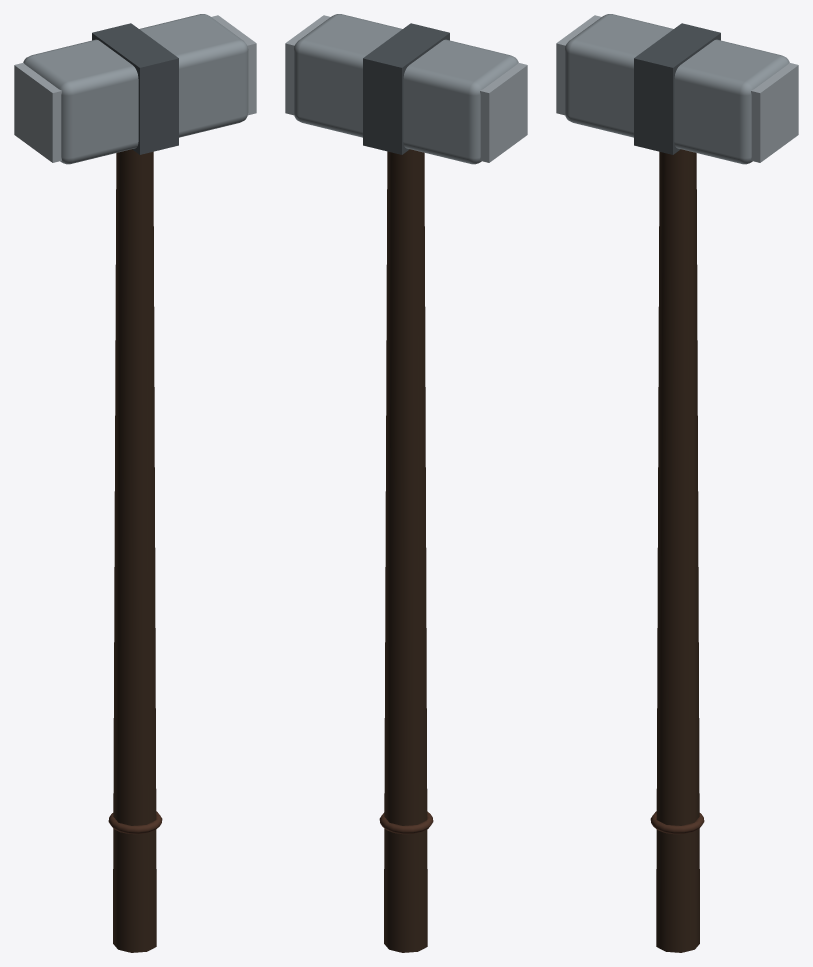
Rendered from maul.glb.
3 renders of one model, left to right at view 1: azimuth 30°, elevation 25°; view 2: azimuth 150°, elevation 25°; view 3: azimuth 330°, elevation 25°, orthographic.
Visible parts, largest first — view 1: maul-shaft, maul-head, maul-head-band, maul-head-face (×2), maul-grip-wrap; view 2: maul-shaft, maul-head, maul-head-band, maul-head-face (×2), maul-grip-wrap; view 3: maul-shaft, maul-head, maul-head-band, maul-head-face (×2), maul-grip-wrap.
Boxes of the visible parts, x1,y1,x2,y2 form: maul-shaft: (113, 149, 156, 952); maul-head: (23, 14, 248, 164); maul-head-band: (92, 23, 178, 154); maul-head-face (×2): (14, 15, 256, 162); maul-grip-wrap: (108, 811, 162, 834); maul-shaft: (384, 149, 427, 952); maul-head: (293, 14, 518, 164); maul-head-band: (363, 23, 449, 154); maul-head-face (×2): (285, 15, 527, 162); maul-grip-wrap: (379, 811, 433, 834); maul-shaft: (656, 149, 699, 952); maul-head: (564, 14, 789, 164); maul-head-band: (634, 23, 720, 154); maul-head-face (×2): (556, 15, 798, 162); maul-grip-wrap: (650, 811, 704, 834).
Bounding box in the file's own units: 0.2022 × 0.8501 × 0.0824.
